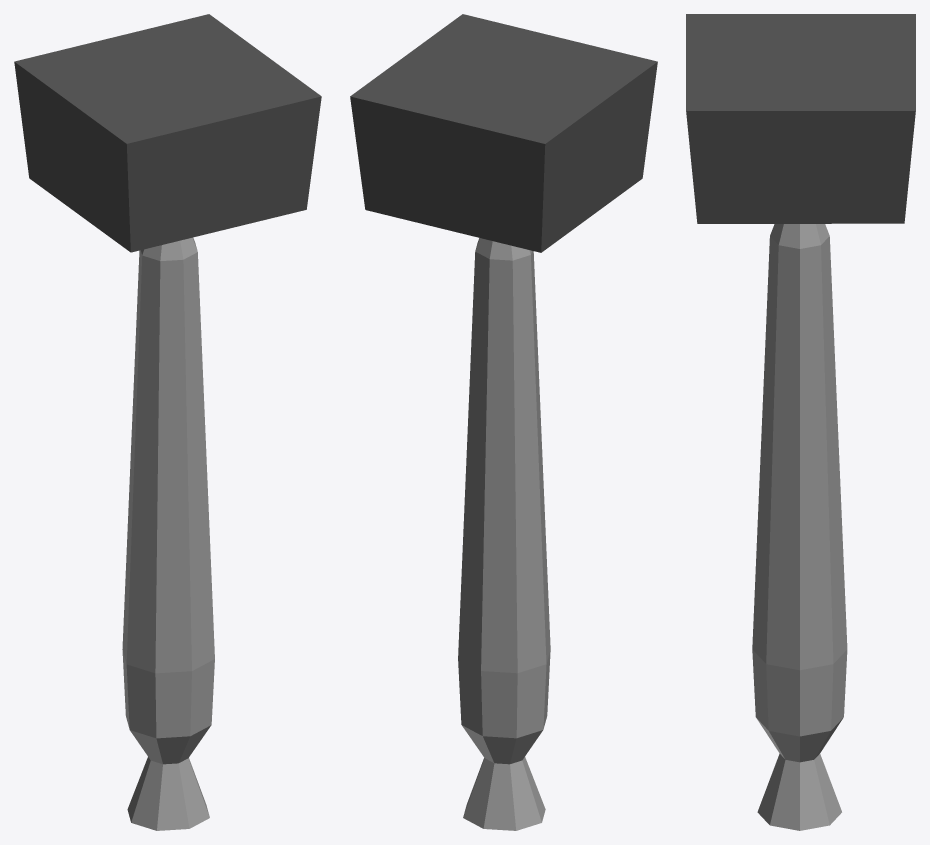
Rendered from Railing_Cap.fbx.
The picture shows the model from 3 angles, left to right: view 1: azimuth 30°, elevation 25°; view 2: azimuth 150°, elevation 25°; view 3: azimuth 270°, elevation 25°; orthographic projection. The views are drawn at different scales.
Visible parts, largest first — view 1: Railing_Cap; view 2: Railing_Cap; view 3: Railing_Cap.
Boxes of the visible parts, <box> form: Railing_Cap: <box>14,14,321,830</box>; Railing_Cap: <box>350,14,657,830</box>; Railing_Cap: <box>686,14,915,830</box>.
Bounding box in the file's own units: 29.16 × 105 × 29.17.
